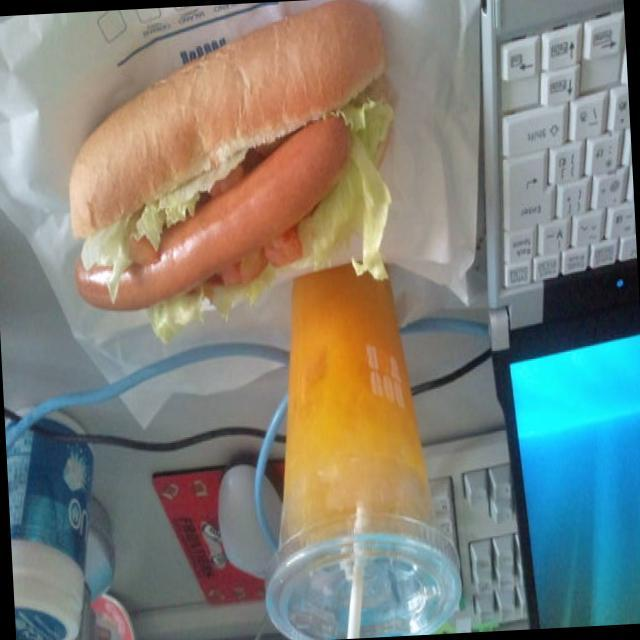Hot Dog: (62, 1, 407, 316)
